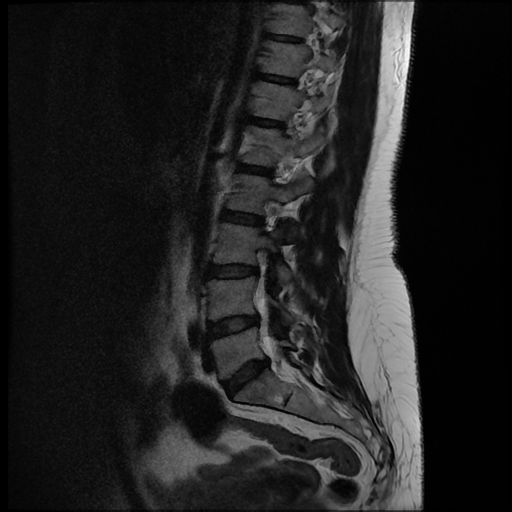RFS0: (249, 191, 289, 237)
